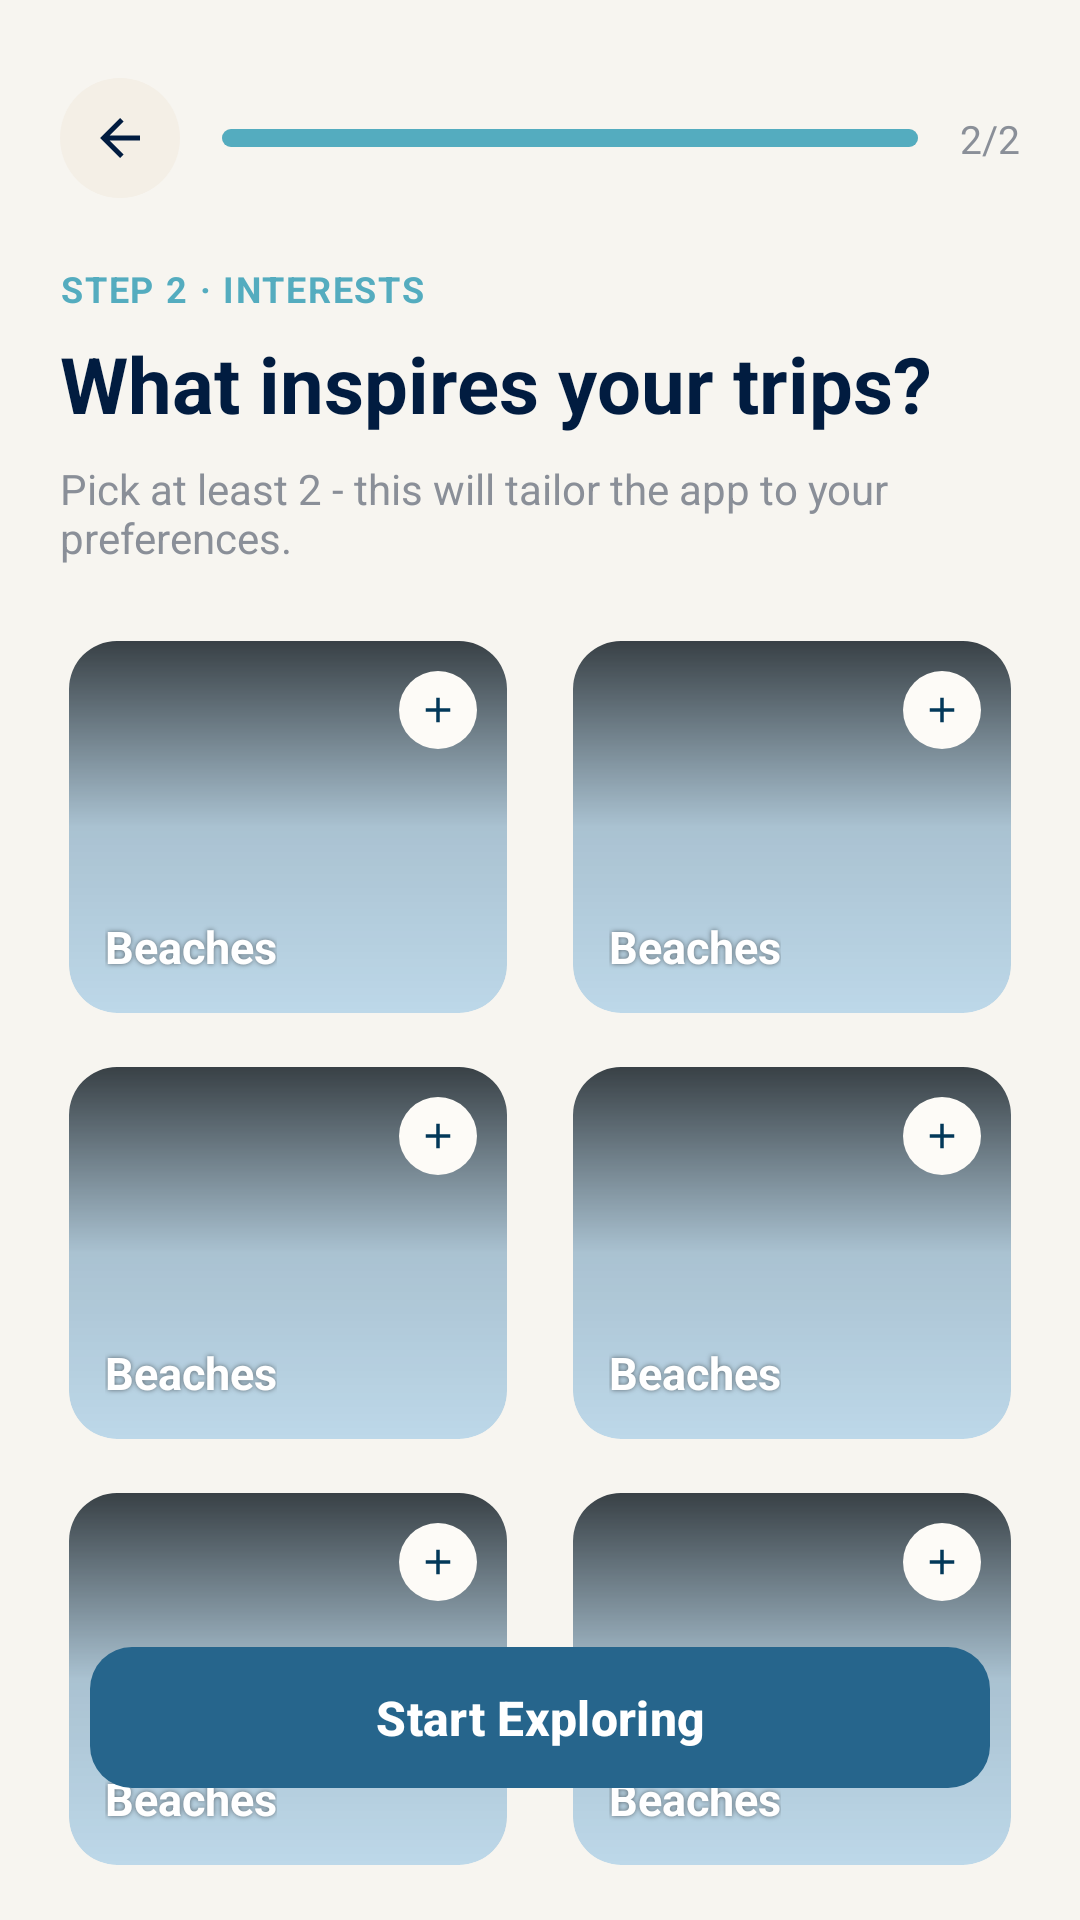

Locate icon controls on the screen. Image size 1080 x 1920, boxes as (x1, y1, x2, y2).
interests back: (60, 78, 180, 198)
interests plus: (425, 697, 451, 723), (929, 697, 955, 723), (425, 1123, 451, 1149), (929, 1123, 955, 1149), (425, 1549, 451, 1575), (929, 1549, 955, 1575)
